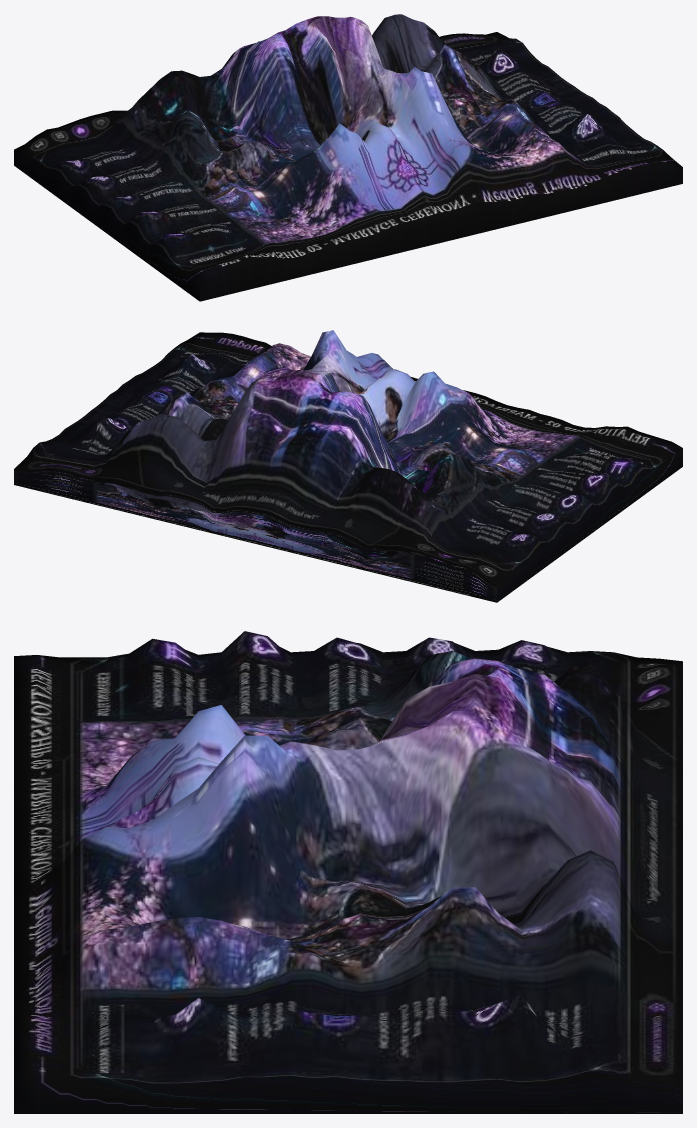
Rendered from RELATIONSHIP_02_Marriage_Ceremony.glb.
3 renders of one model, top to bottom at view 1: azimuth 30°, elevation 25°; view 2: azimuth 150°, elevation 25°; view 3: azimuth 270°, elevation 25°, orthographic. The views are drawn at different scales.
Parts seen in each view (by area): view 1: RELATIONSHIP_02_Marriage_Ceremony; view 2: RELATIONSHIP_02_Marriage_Ceremony; view 3: RELATIONSHIP_02_Marriage_Ceremony.
Boxes of the visible parts, x1=… form: RELATIONSHIP_02_Marriage_Ceremony: x1=14, y1=14, x2=682, y2=301; RELATIONSHIP_02_Marriage_Ceremony: x1=14, y1=330, x2=682, y2=602; RELATIONSHIP_02_Marriage_Ceremony: x1=14, y1=631, x2=682, y2=1113.
Size of the model in its own units: 2 by 0.51 by 1.33.
1 material, 1 textured.
